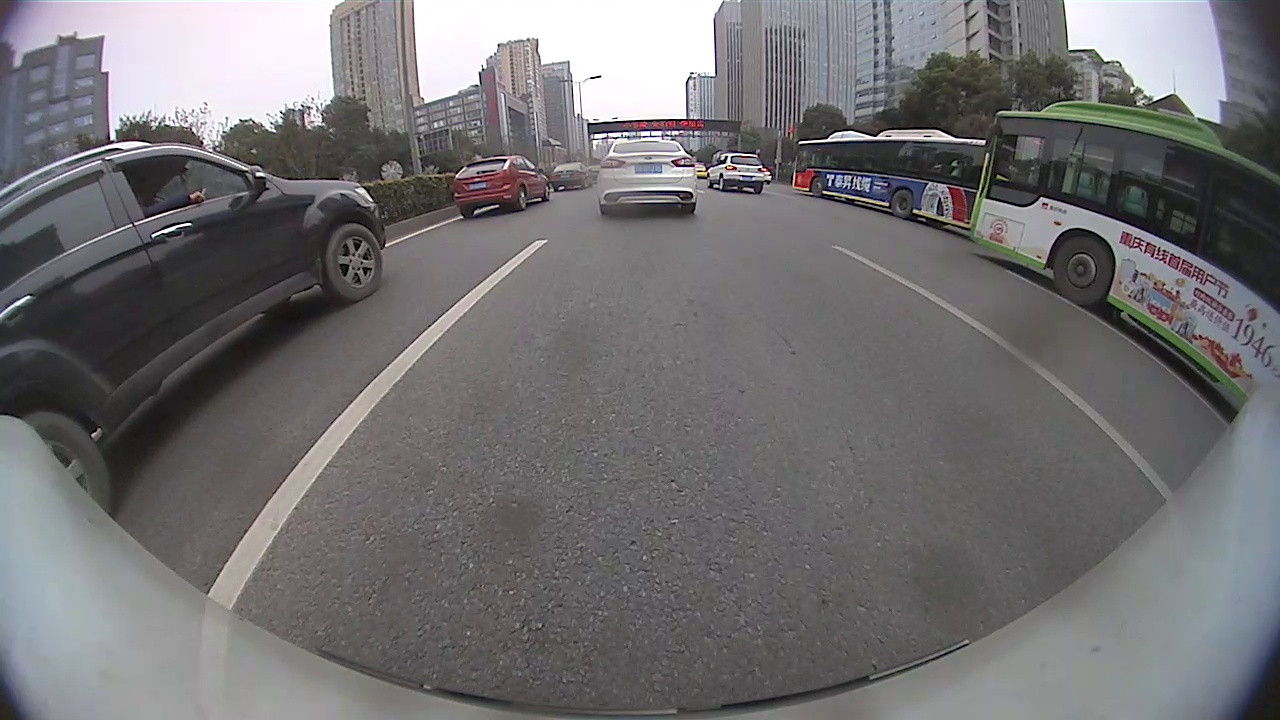bus: (966, 100, 1279, 422), (790, 130, 988, 233)
car: (1, 138, 387, 517), (596, 139, 699, 221), (453, 153, 552, 220), (707, 150, 767, 198)
front: (1048, 235, 1114, 309), (325, 225, 385, 304), (809, 175, 826, 199)
rear: (11, 412, 122, 525), (889, 189, 915, 217), (517, 186, 530, 213), (716, 175, 729, 192)
